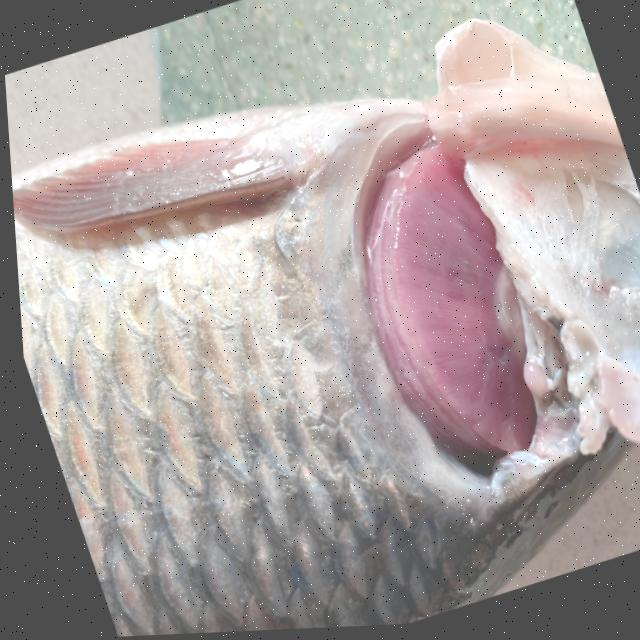Fresh: (284, 96, 593, 522)
